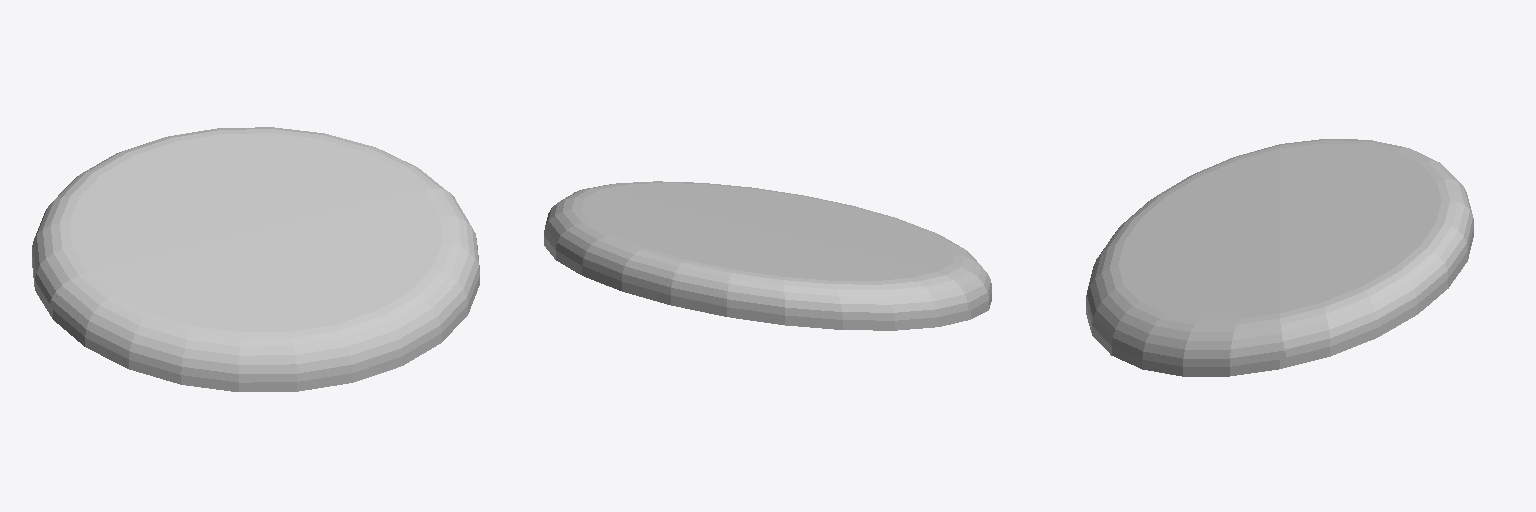
Rendered from original-21.obj.
3 renders of one model, left to right at view 1: azimuth 30°, elevation 25°; view 2: azimuth 150°, elevation 25°; view 3: azimuth 270°, elevation 25°, orthographic.
Parts seen in each view (by area): view 1: #ID156; view 2: #ID156; view 3: #ID156.
Part boxes in pixels (x1,y1,x2,y2): #ID156: (32, 127, 479, 391); #ID156: (544, 181, 991, 330); #ID156: (1086, 139, 1473, 376).
Size of the model in its own units: 0.0639 by 0.0167 by 0.0528.